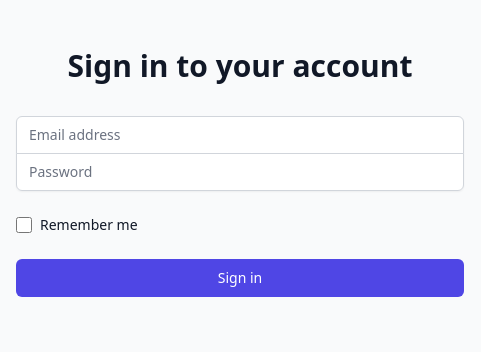
it: LoginPage › handles network errors during login
The width and height of the screenshot is (481, 352).
Fill form with valid data
In the field labelled "Email address": (240, 134) 16,116 -> 464,154, type "test@example.com"
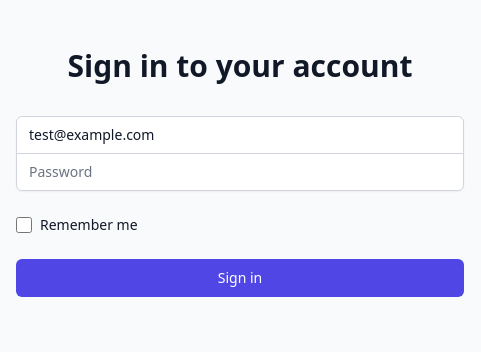
In the password field labelled "Password": (240, 172) 16,152 -> 464,190, type "password123"
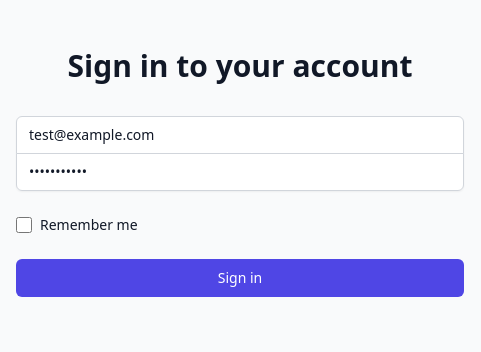
Submit form
Click the button "Sign in": click(240, 278) 16,258 -> 464,296
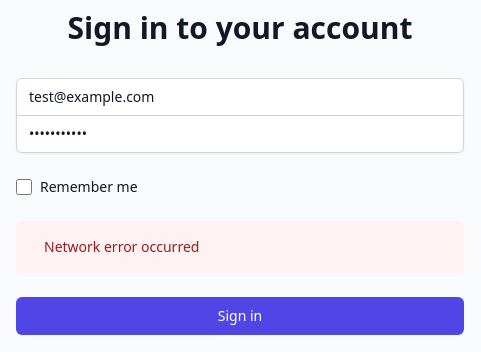
Expected: the heading "Network error occurred" is shown, 44,236 -> 199,256
